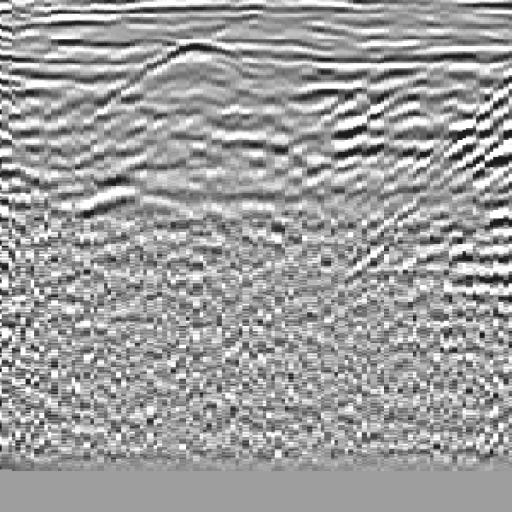metalic: (58, 63, 182, 258)
nonmetalic: (381, 44, 512, 273)
